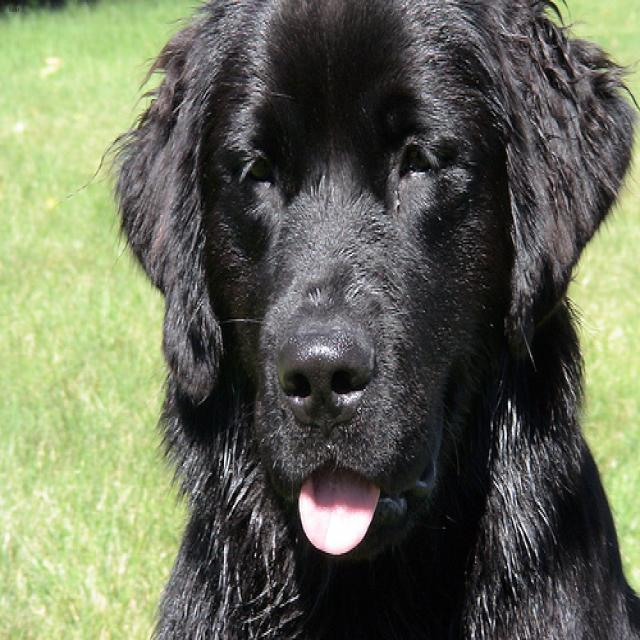dog-newfoundland: (82, 2, 637, 637)
